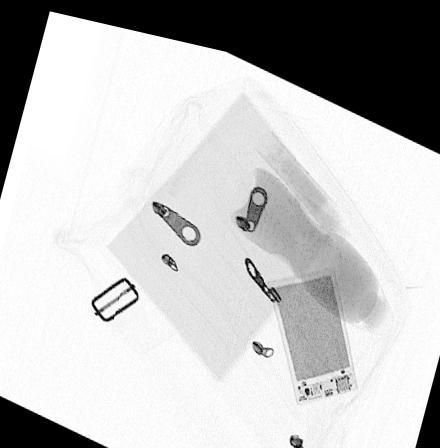Powerbank: (266, 250, 360, 390)
